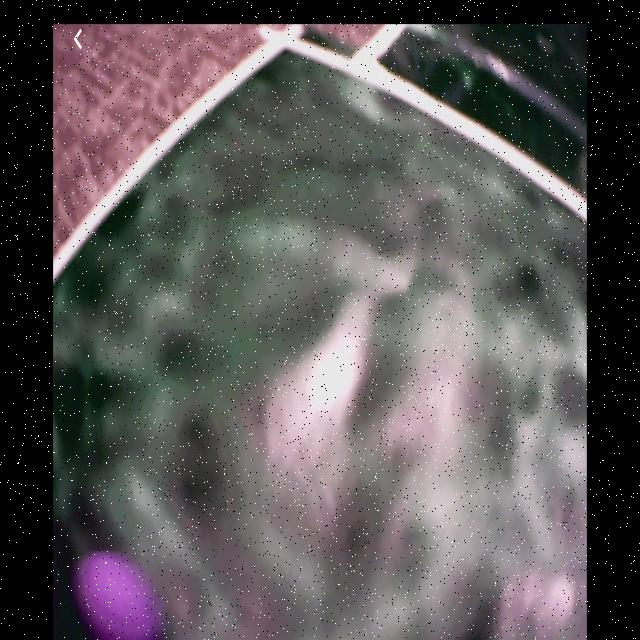ball: (79, 555, 154, 637)
